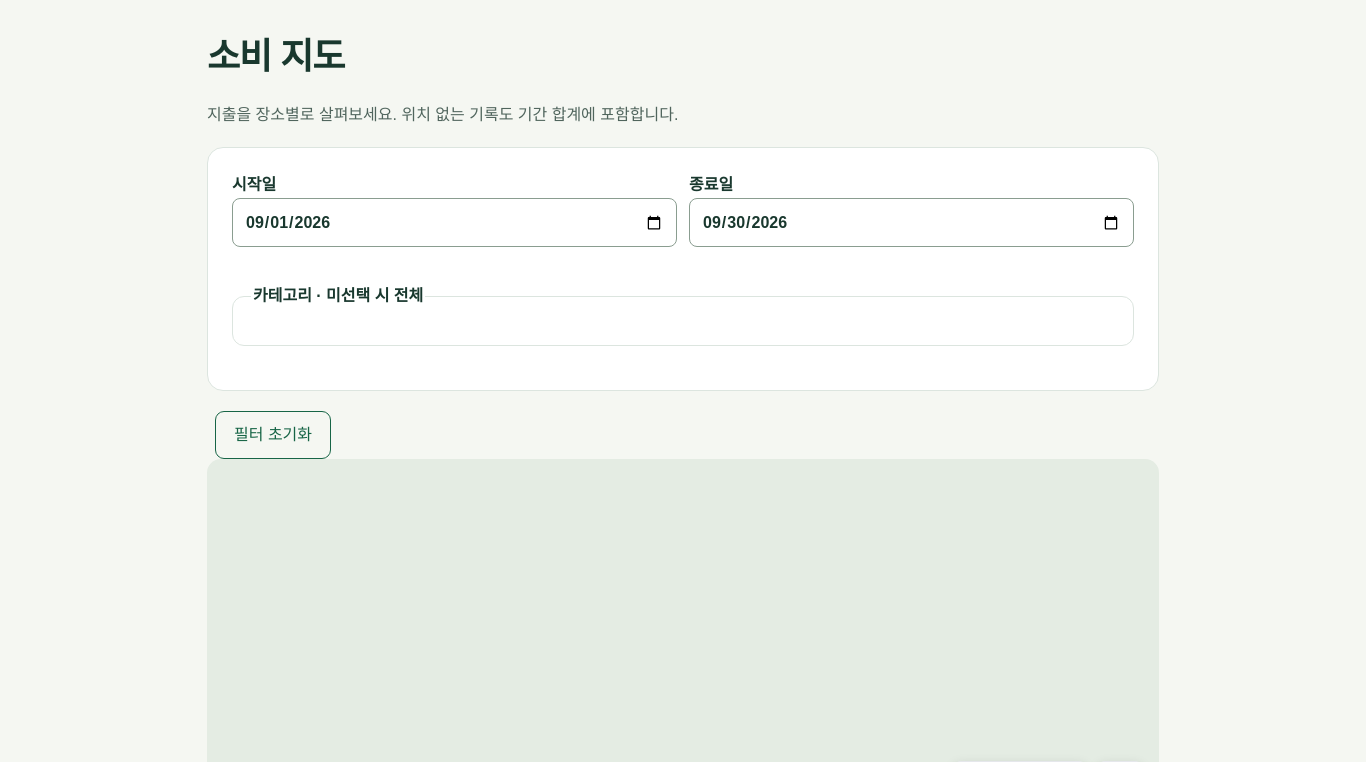
Scenario: 변경한 지도 조회 실패 시 이전 결과와 오류를 함께 유지한다
Type "2026-09-02" into the date field labelled "시작일".
click(454, 223); type("2026-09-02")  # box [232,198,677,247]
(page scrolled)
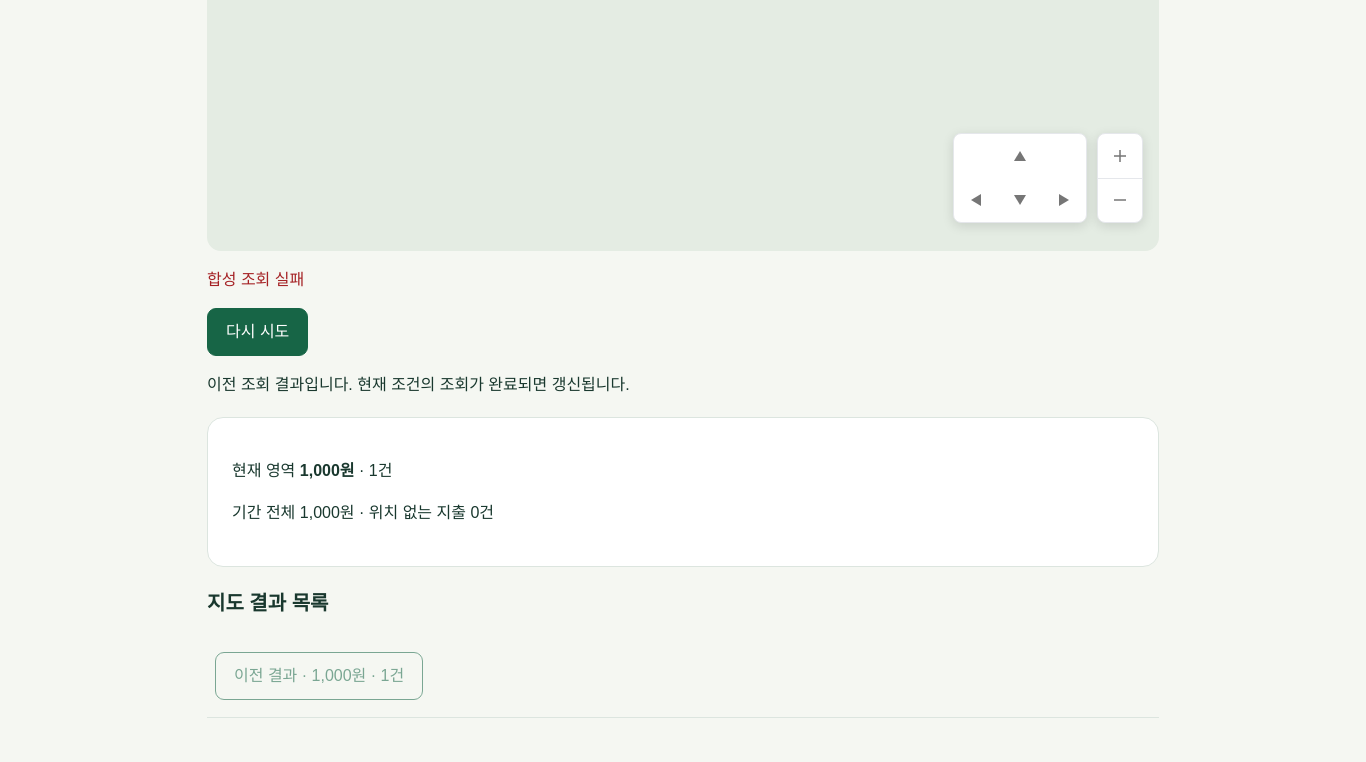
Expected: the button "이전 결과 · 1,000원 · 1건" is shown, [215,652,423,700]
Result: the text "합성 조회 실패" is shown at [207,271,304,288]
Result: the text "이전 조회 결과입니다. 현재 조건의 조회가 완료되면 갱신됩니다." is shown at [207,376,630,393]
